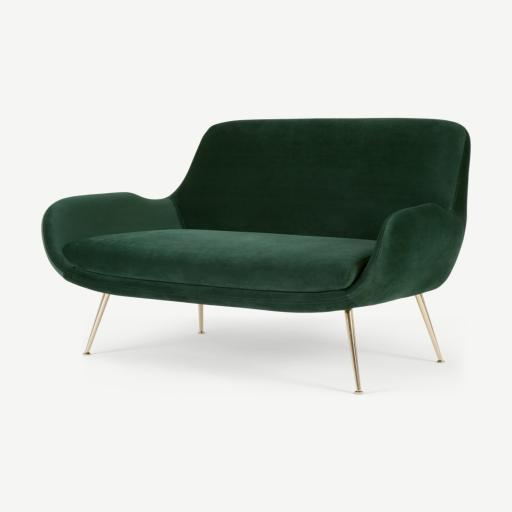back_cushion: (171, 118, 469, 239)
base: (65, 269, 357, 312)
left_arm: (341, 203, 463, 306)
legs: (416, 294, 443, 362), (344, 310, 363, 394), (83, 294, 109, 355), (198, 304, 204, 334)
one-seater: (42, 119, 470, 394)
right_arm: (43, 193, 181, 276)
seat_cushion: (64, 229, 375, 310)
